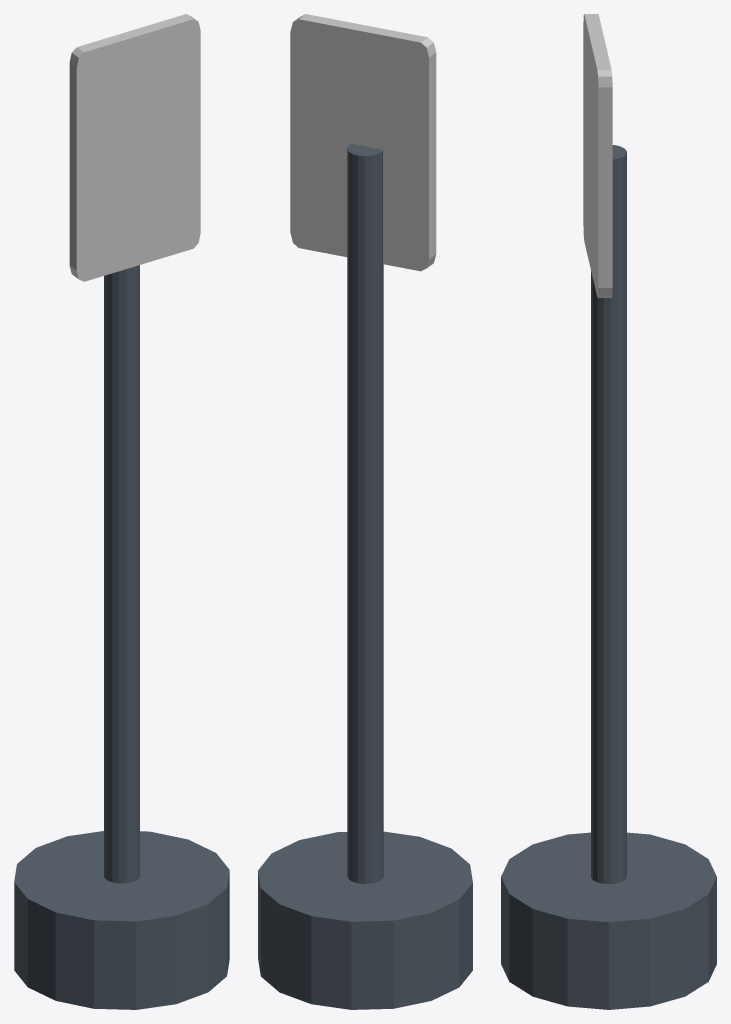
Rendered from BusStopSign.fbx.
3 views of the same model, side by side, from view 1: azimuth 30°, elevation 25°; view 2: azimuth 150°, elevation 25°; view 3: azimuth 270°, elevation 25° (orthographic).
Visible parts, largest first — view 1: BusSign; view 2: BusSign; view 3: BusSign.
Part boxes in pixels (x1,y1,x2,y2): BusSign: [14, 14, 229, 1009]; BusSign: [258, 14, 472, 1009]; BusSign: [501, 14, 716, 1009].
Size of the model in its own units: 65.15 by 309 by 65.15.
